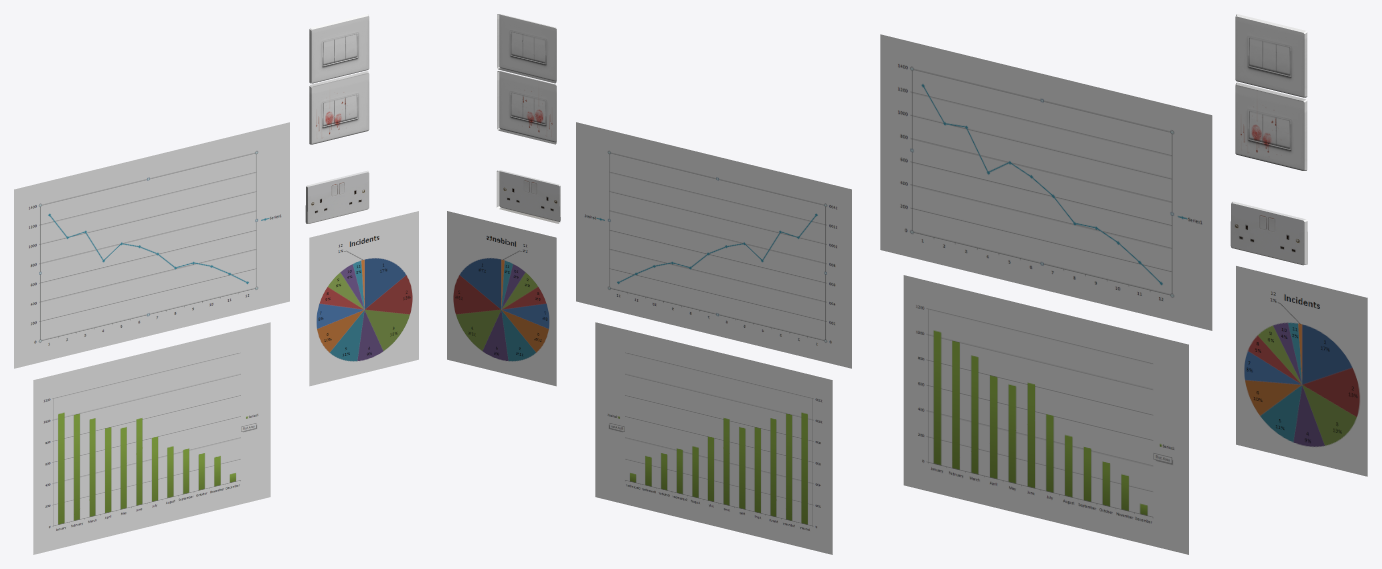
Rendered from PACKT_officeDecals02.FBX.
3 views of the same model, side by side, from view 1: azimuth 30°, elevation 25°; view 2: azimuth 150°, elevation 25°; view 3: azimuth 330°, elevation 25° (orthographic). The views are drawn at different scales.
Parts seen in each view (by area): view 1: graph1, graph2, pieChart, lightSwitch02, lightSwitch01, power; view 2: graph1, graph2, pieChart, lightSwitch02, lightSwitch01, power; view 3: graph1, graph2, pieChart, lightSwitch02, lightSwitch01, power.
Boxes of the visible parts, x1,y1,x2,y2 form: graph1: [14, 122, 289, 368]; graph2: [33, 322, 270, 554]; pieChart: [309, 211, 418, 386]; lightSwitch02: [309, 71, 369, 144]; lightSwitch01: [309, 14, 369, 83]; power: [305, 170, 369, 223]; graph1: [576, 122, 851, 368]; graph2: [595, 322, 832, 554]; pieChart: [447, 211, 556, 386]; lightSwitch02: [497, 71, 556, 144]; lightSwitch01: [497, 14, 556, 83]; power: [496, 170, 560, 223]; graph1: [880, 34, 1212, 330]; graph2: [903, 275, 1188, 554]; pieChart: [1236, 266, 1367, 476]; lightSwitch02: [1235, 82, 1307, 170]; lightSwitch01: [1235, 14, 1307, 97]; power: [1230, 201, 1307, 265].
Bounding box in the file's own units: 0.7201 × 0.7806 × 0.00468.
